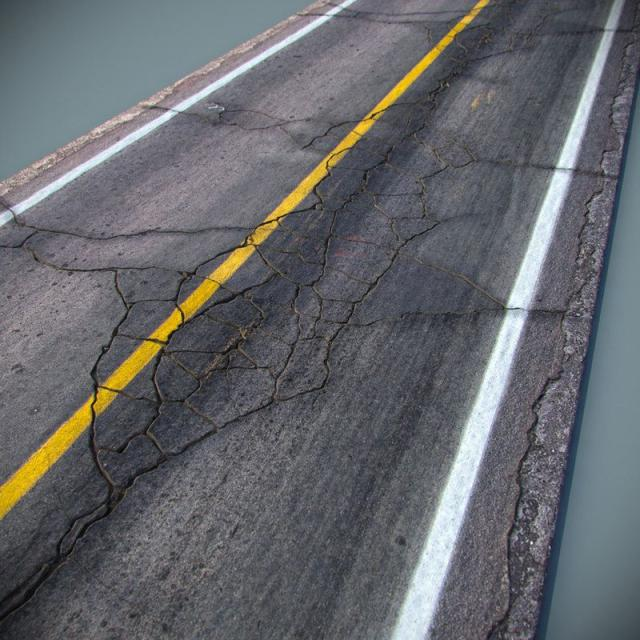Drain Hole: (0, 209, 381, 533)
